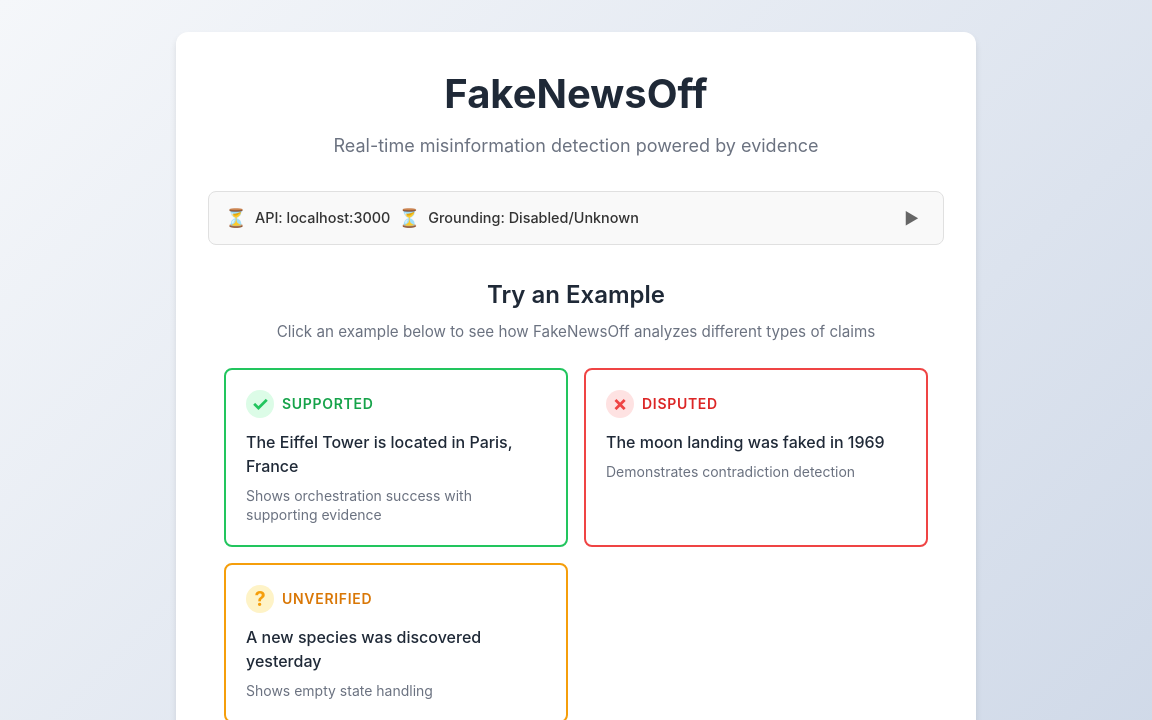
Scenario: Home › enables submit button when example claim is clicked
Step 1. Click the button "The Eiffel Tower is located in Paris, France" → (328,404), box left=224, top=368, right=568, bottom=547
(page scrolled)
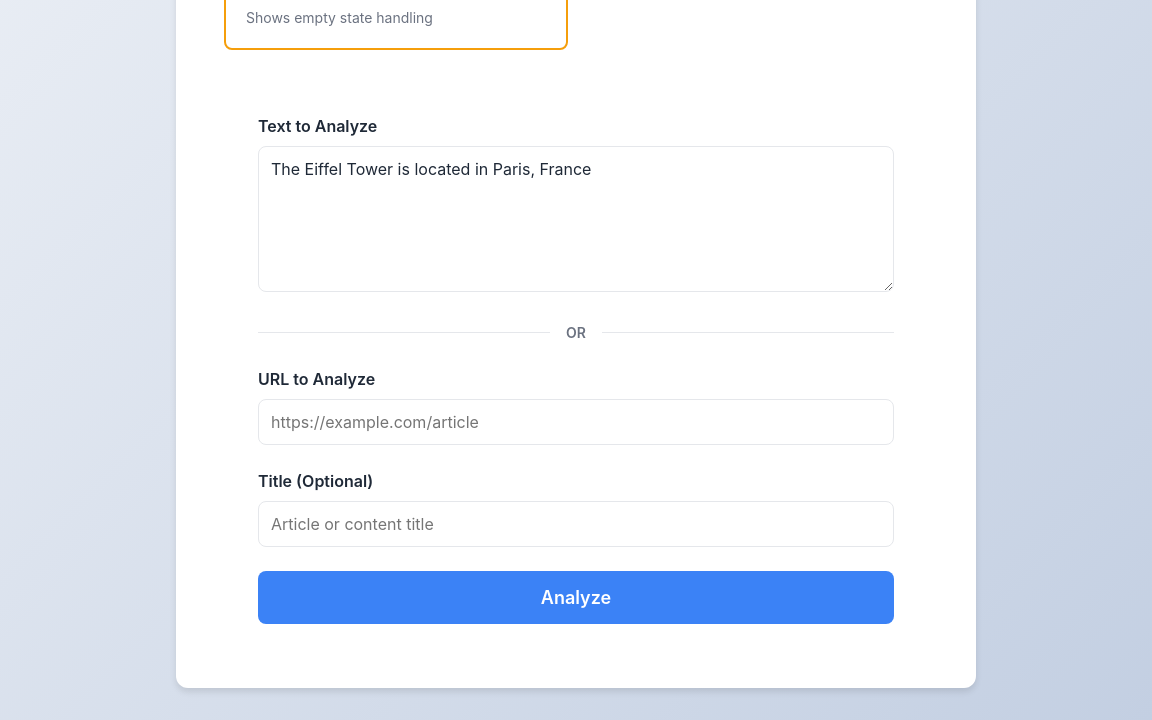
Expected: the button with aria-label "Analyze content" is enabled, left=258, top=571, right=894, bottom=624
